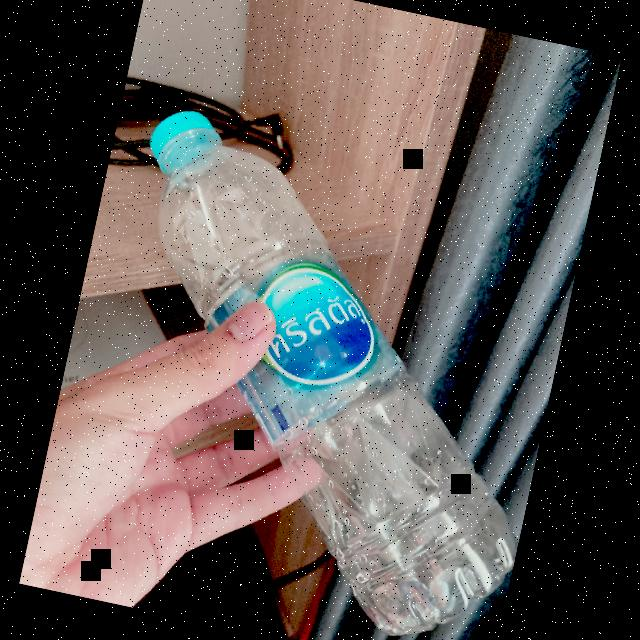plastic_bottle: (41, 102, 591, 640)
plastic_bottle_cap: (142, 106, 224, 186)
